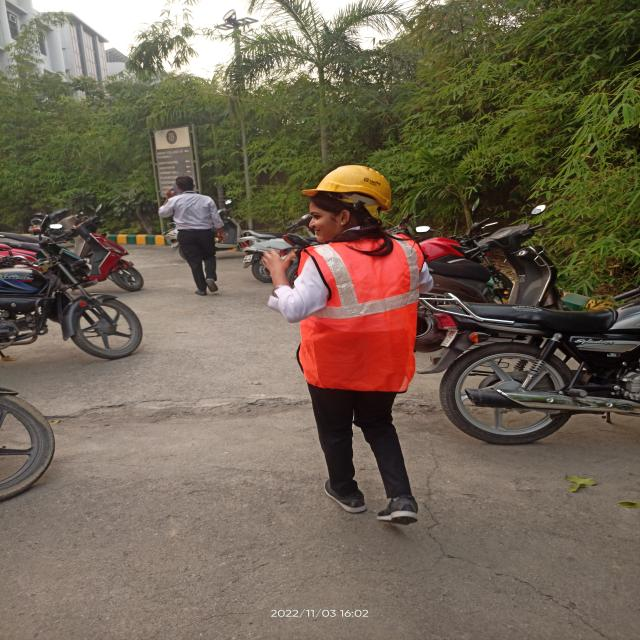safe: (271, 168, 429, 528)
unsafe: (164, 170, 223, 298)
